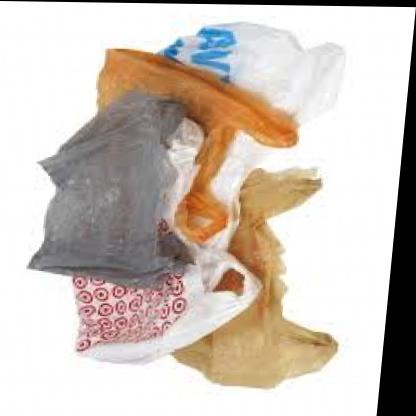Plastic: (52, 36, 312, 240), (164, 152, 364, 406), (67, 176, 258, 372), (22, 98, 192, 282), (152, 19, 372, 121)
